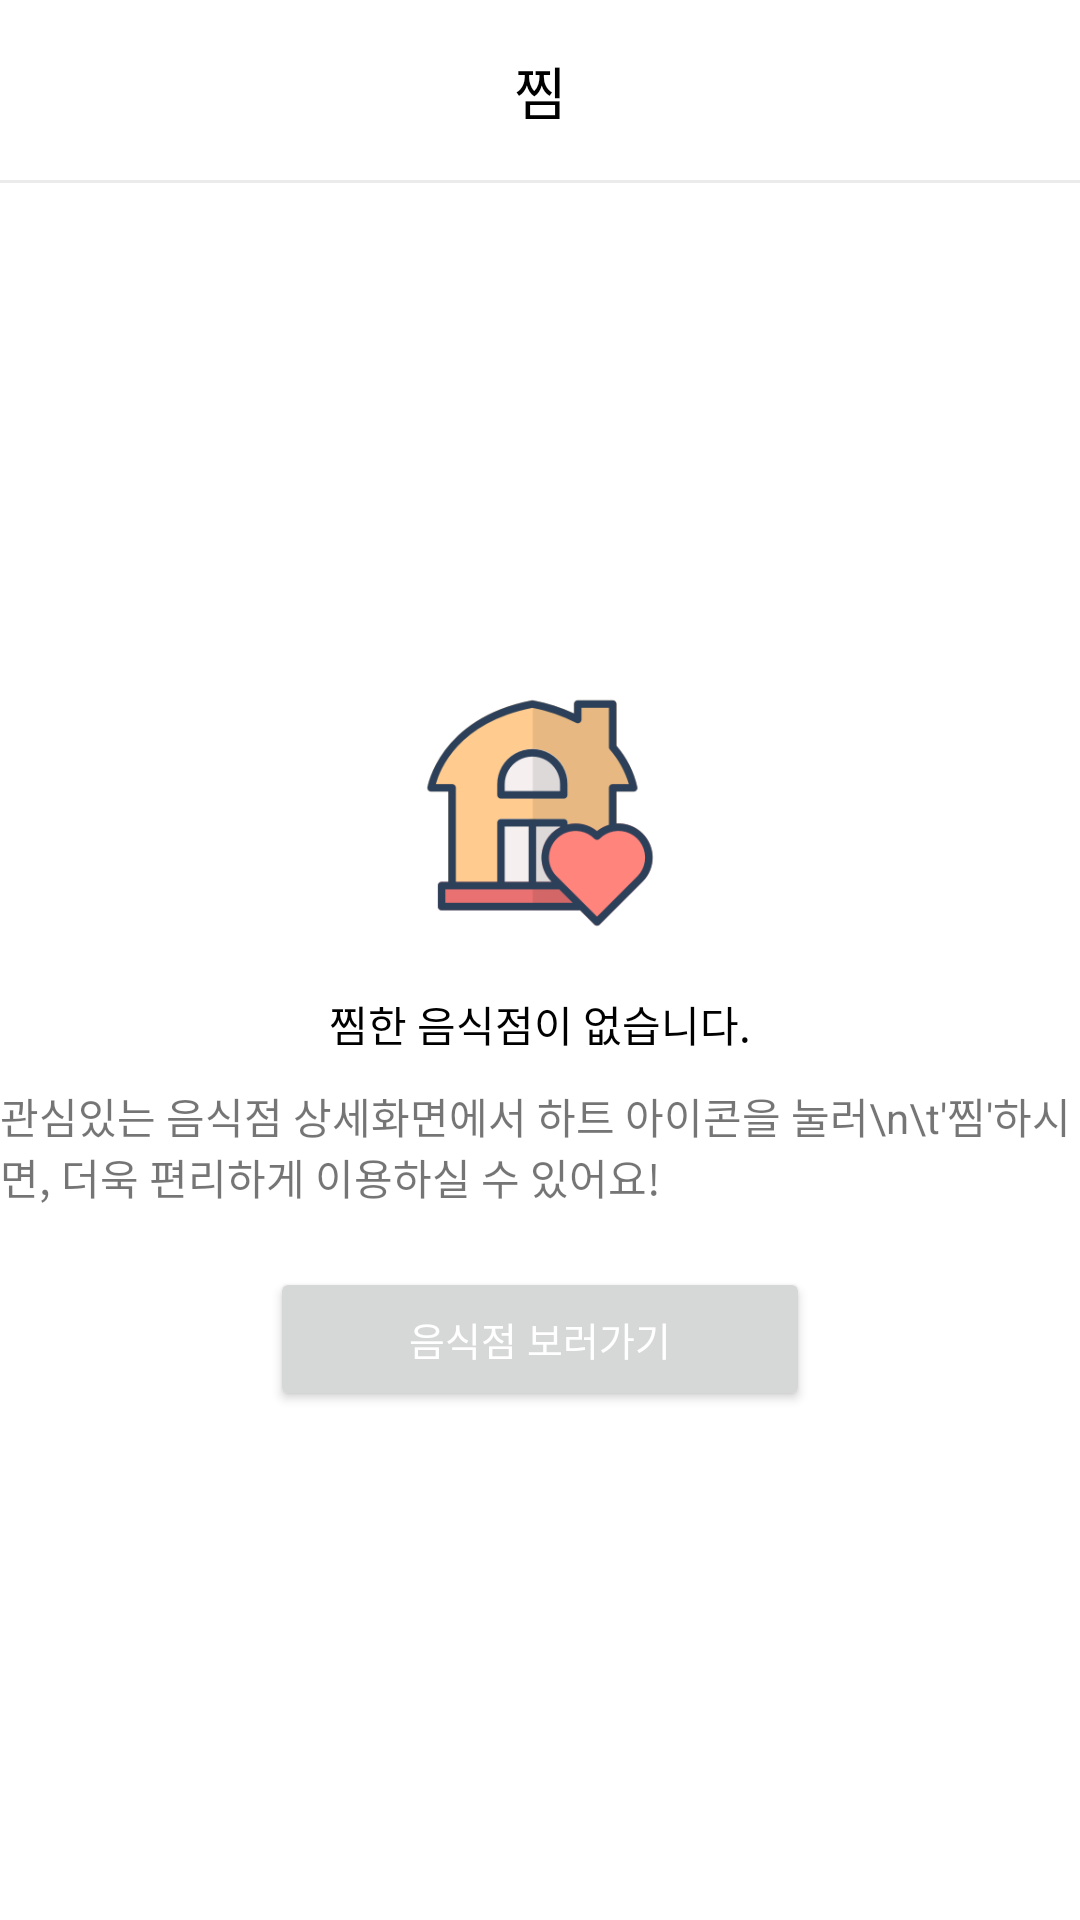

Screen size 1080 x 1920. Icon name, then its center in pixels as (x,y):
heartimg: (540,813)
